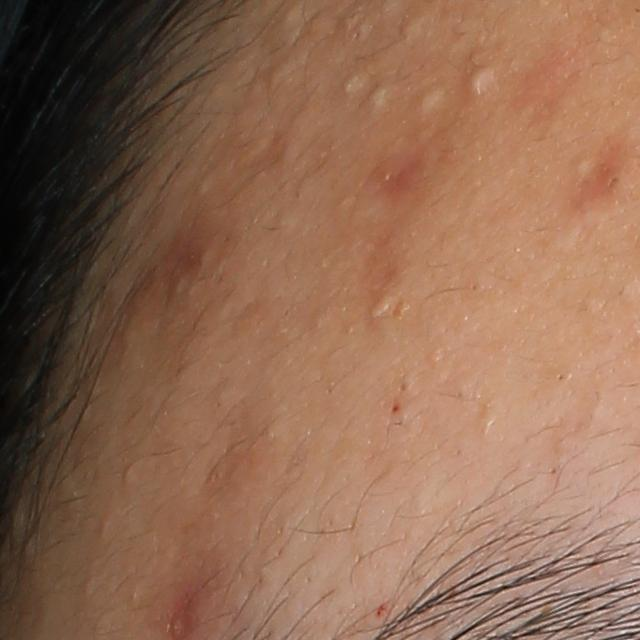comedo: (399, 10, 428, 44), (419, 88, 445, 113), (365, 84, 390, 109), (368, 298, 392, 321), (341, 74, 363, 94)
